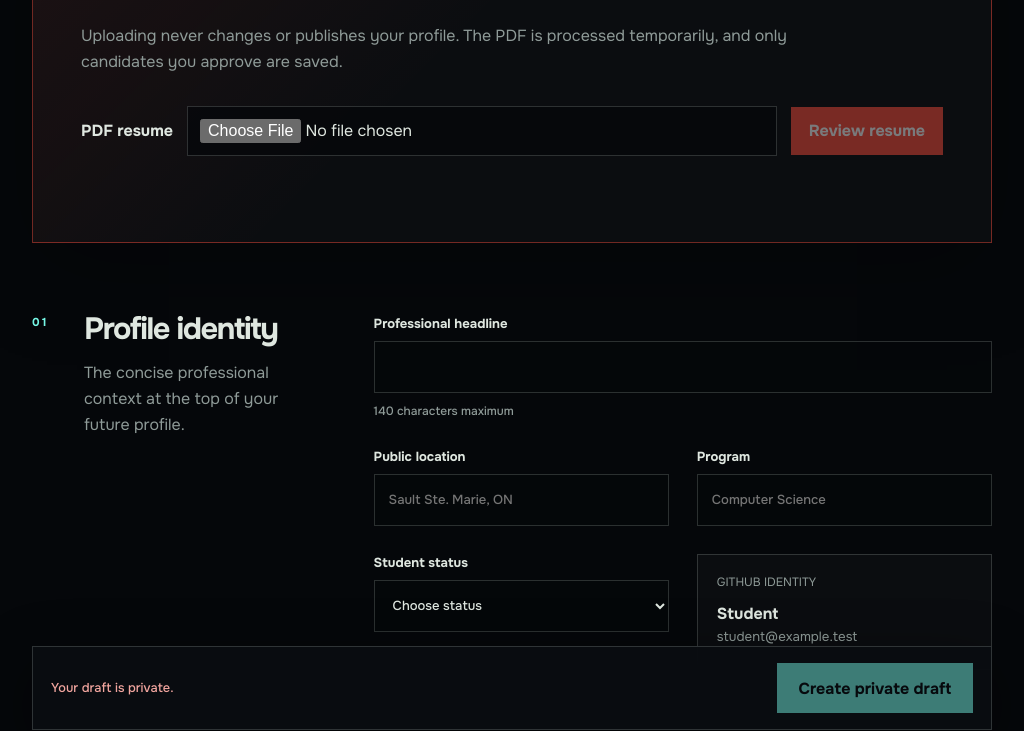
Test: private student profile editor › preserves edits and exposes server validation after a failed save
(page scrolled)
In the field labelled "Professional headline": (683, 367) [374,341,992,393], type "Keep this edit"
(page scrolled)
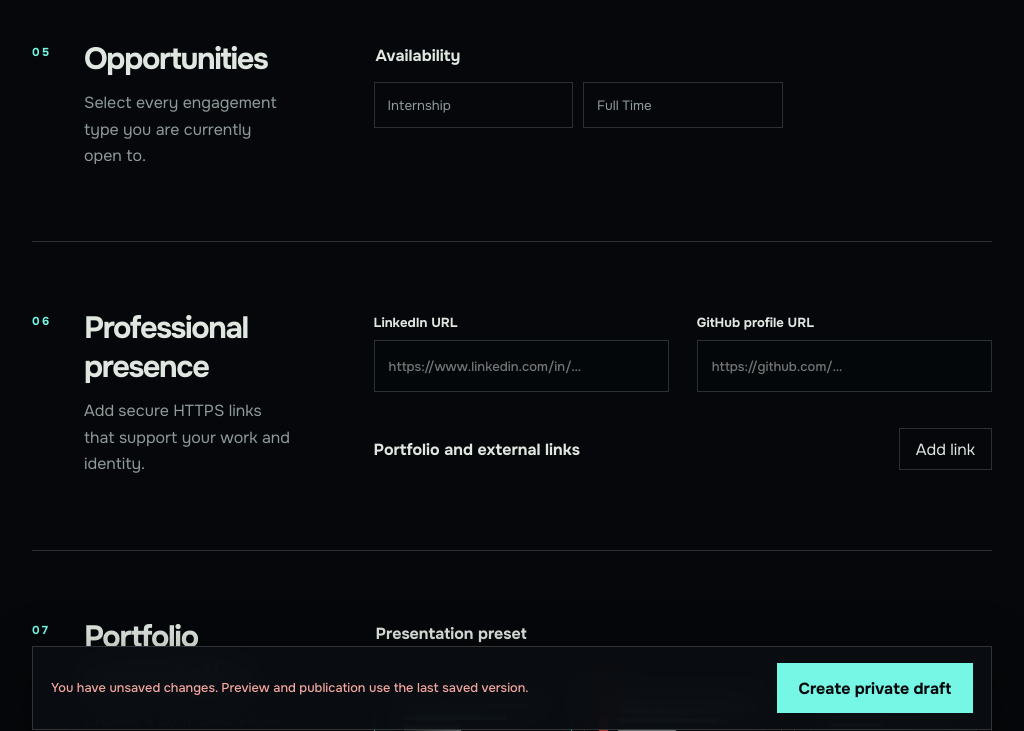
In the field labelled "GitHub profile URL": (844, 366) [697,340,992,392], type "https://gitlab.com/student"
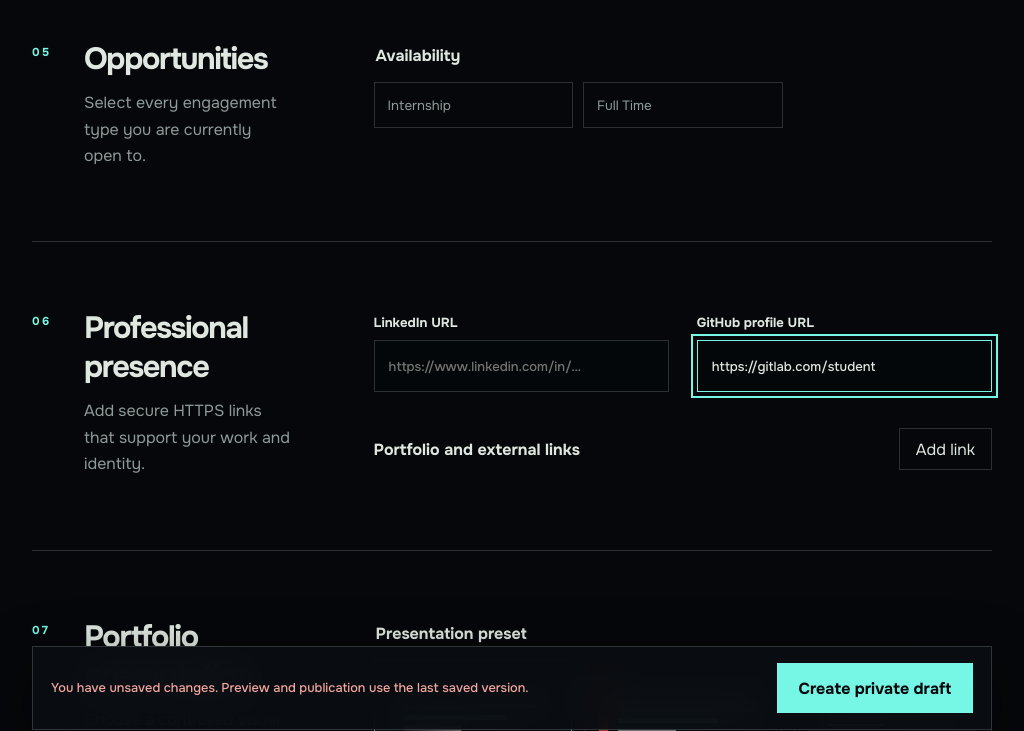
Click the button "Create private draft": click(875, 688) [776,663,973,713]
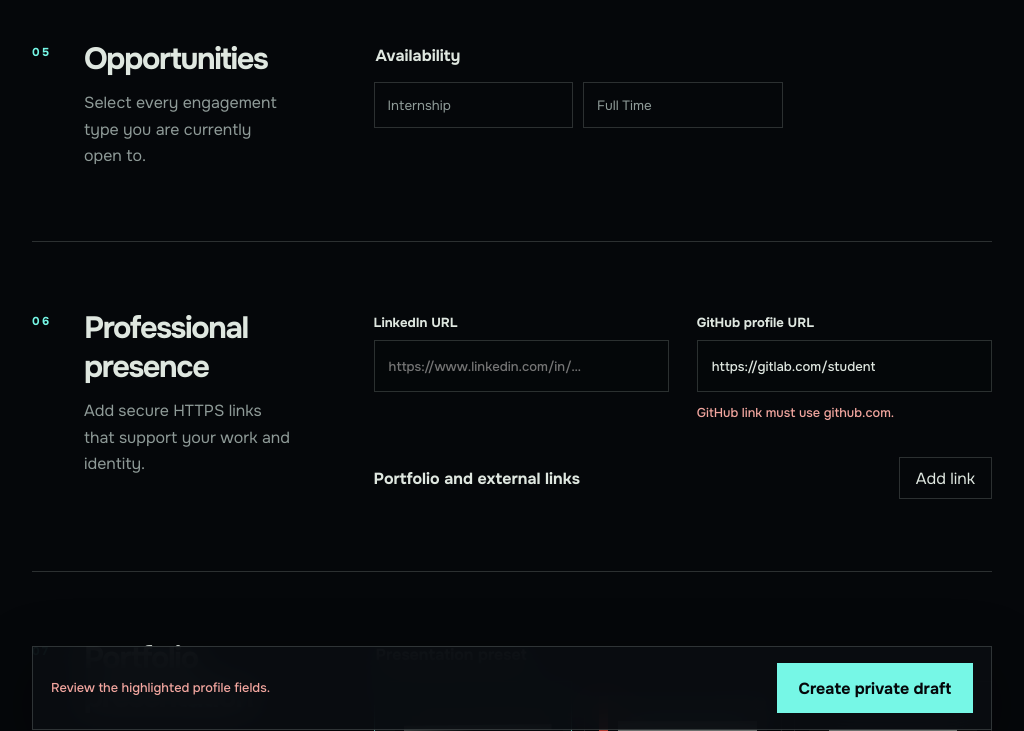
Expected: the message "GitHub link must use github.com." is shown, [697,405,894,421]
Expected: the message "Review the highlighted profile fields." is shown, [51,680,270,696]
